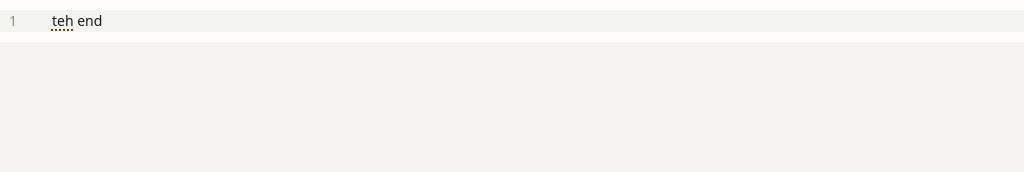
Test case: Editor writing aids (spec 007 US1) › offers suggestions on right-click and replaces the word
The image size is (1024, 172).
Step 1. Right-click the text box with class "cm-spell" → (63,20), box [52,11,74,30]
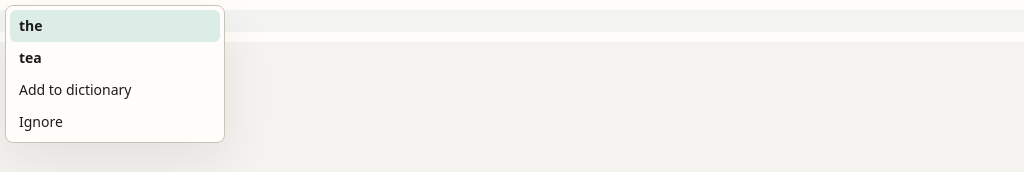
Step 2. Click the menu item "the" → (115,26), box [10,10,220,42]
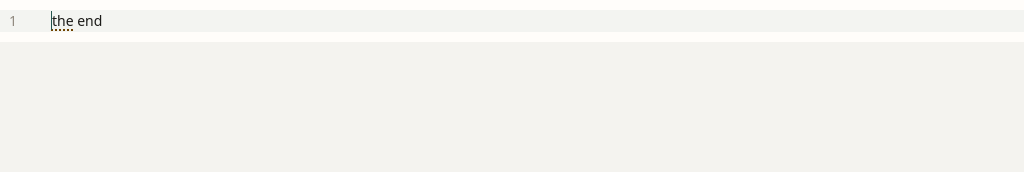
expect the text box labelled "the end" is shown: met, box [46,10,1023,32]
expect the menu is gone: met
